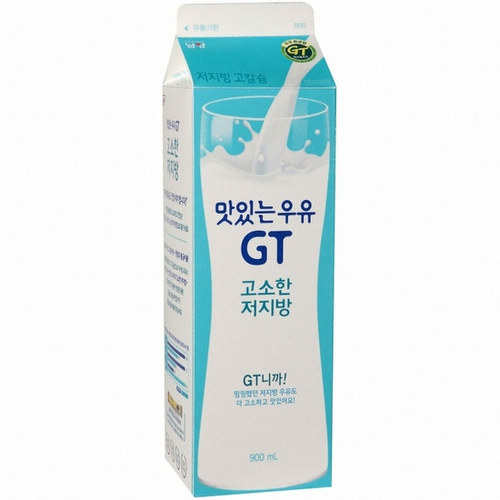milk: (160, 2, 337, 497)
